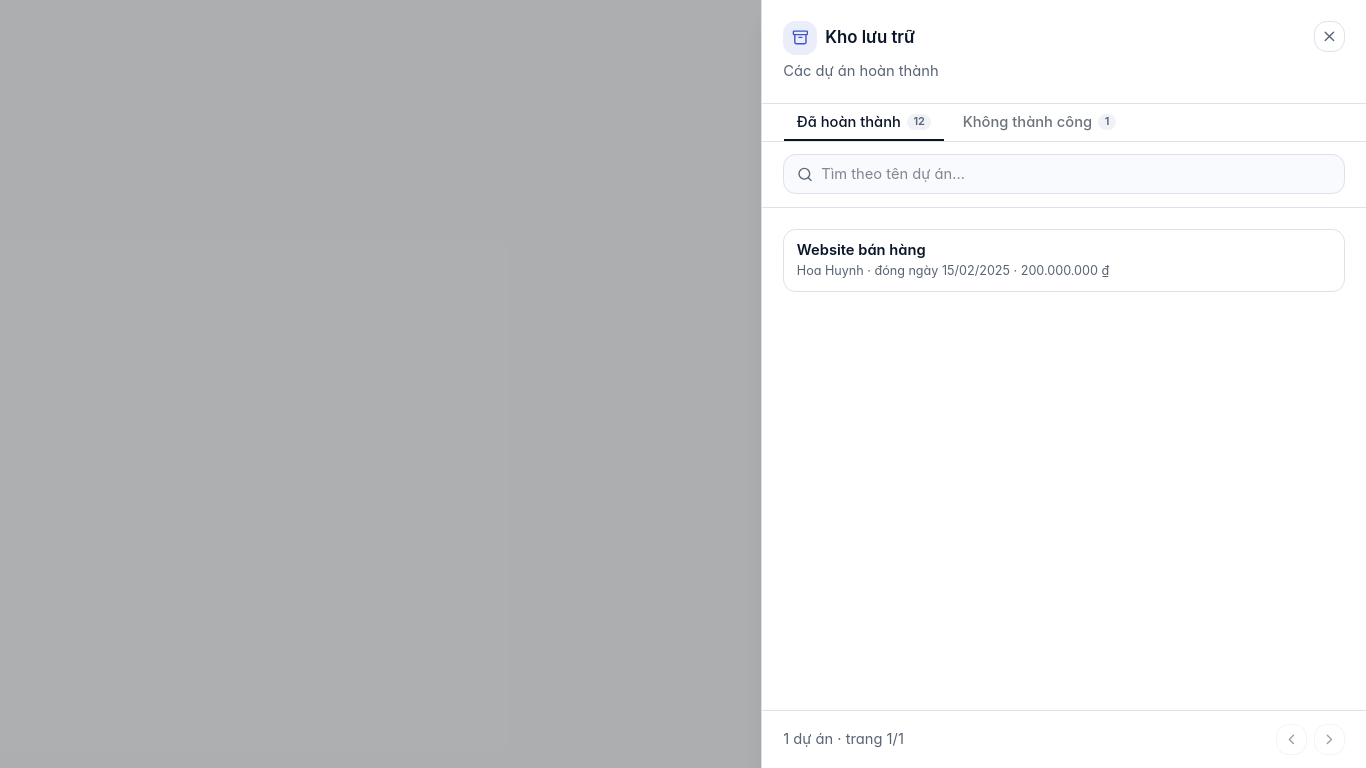
hai mục của kho › dự án không thành công cũ chưa ghi lý do thì nói rõ là chưa ghi, không để trống
Click the tab "Không thành công 1".
click(1039, 122)  # box [949, 107, 1129, 137]
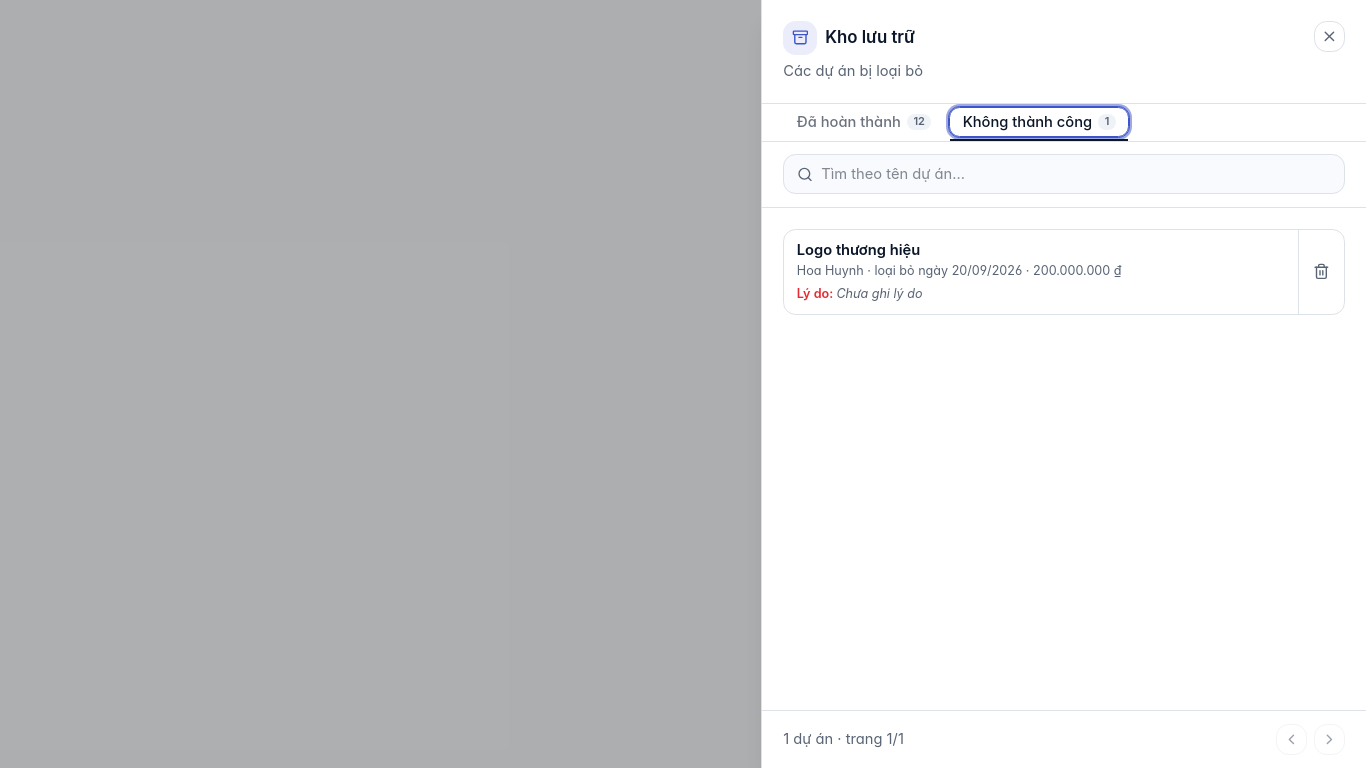
Expected: the text "Chưa ghi lý do" is shown, [836, 286, 922, 301]
